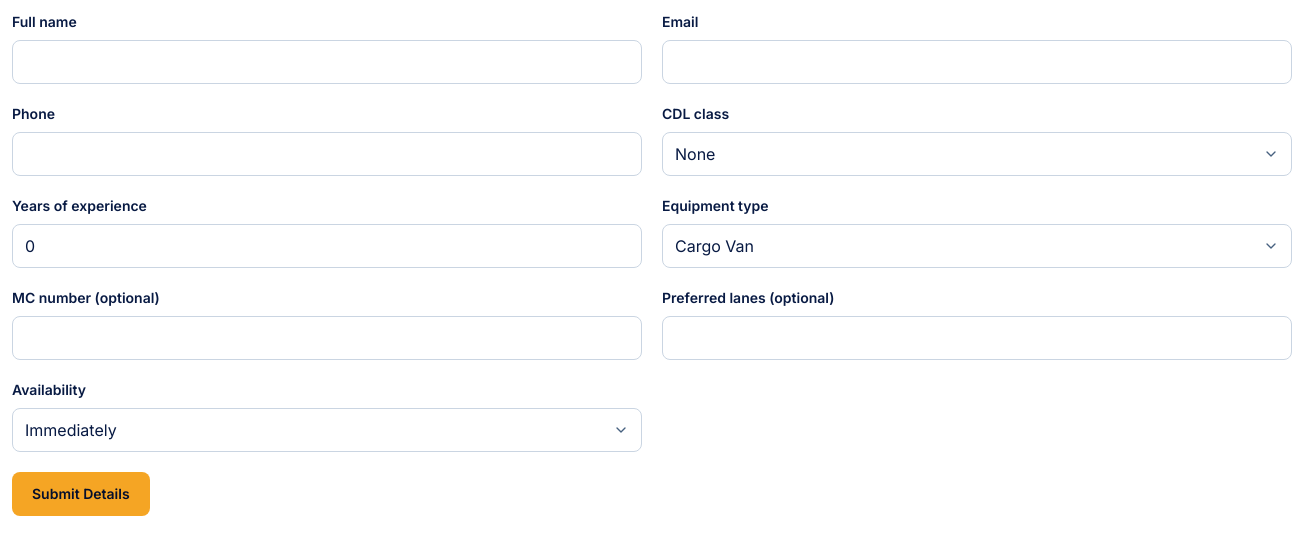
Test: OwnerOperatorForm › rejects a phone number that is too short
Type "Jordan Blake" into the field labelled "Full name". click: (327, 62)
box: [12, 40, 642, 84]
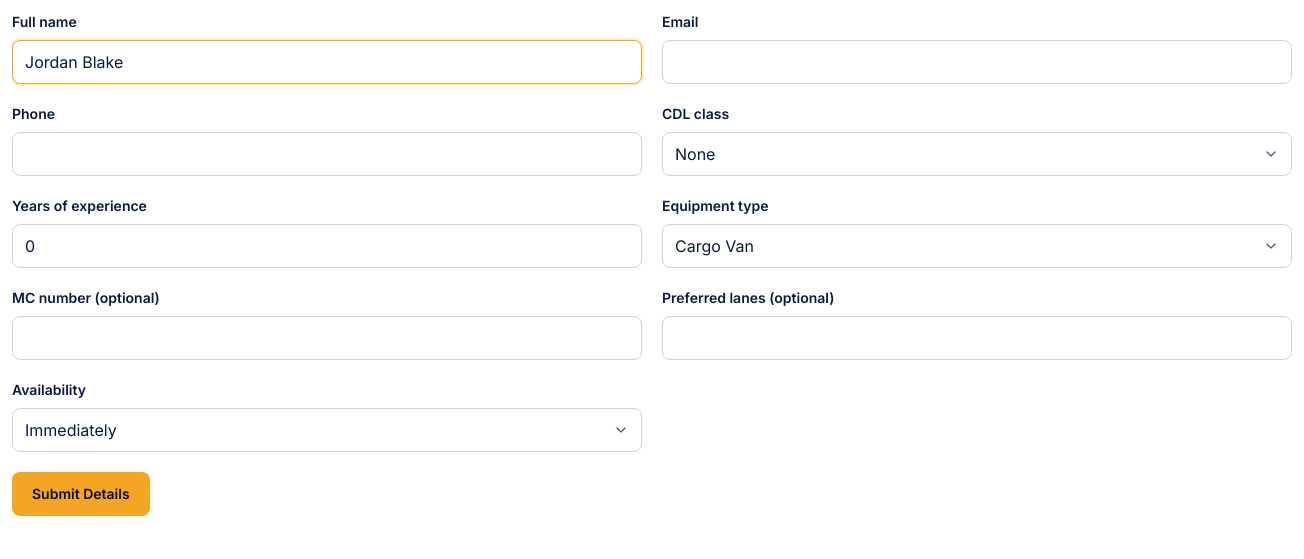
Type "jordan@example.com" into the field labelled "Email". click: (977, 62)
box: [662, 40, 1292, 84]
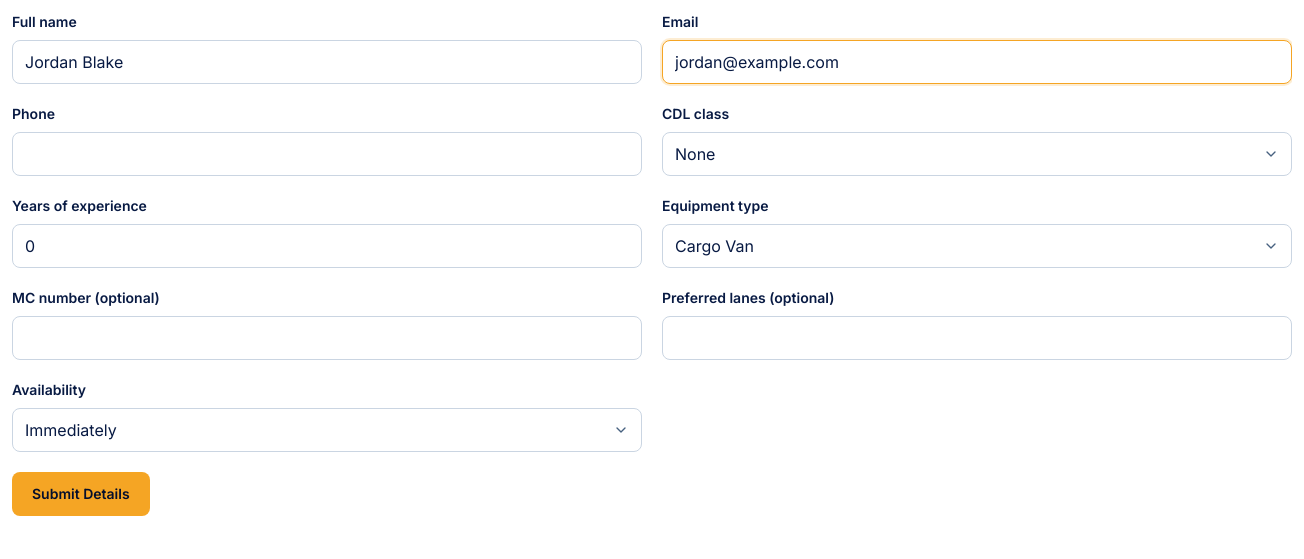
Type "91684" into the field labelled "Phone". click: (327, 154)
box: [12, 132, 642, 176]
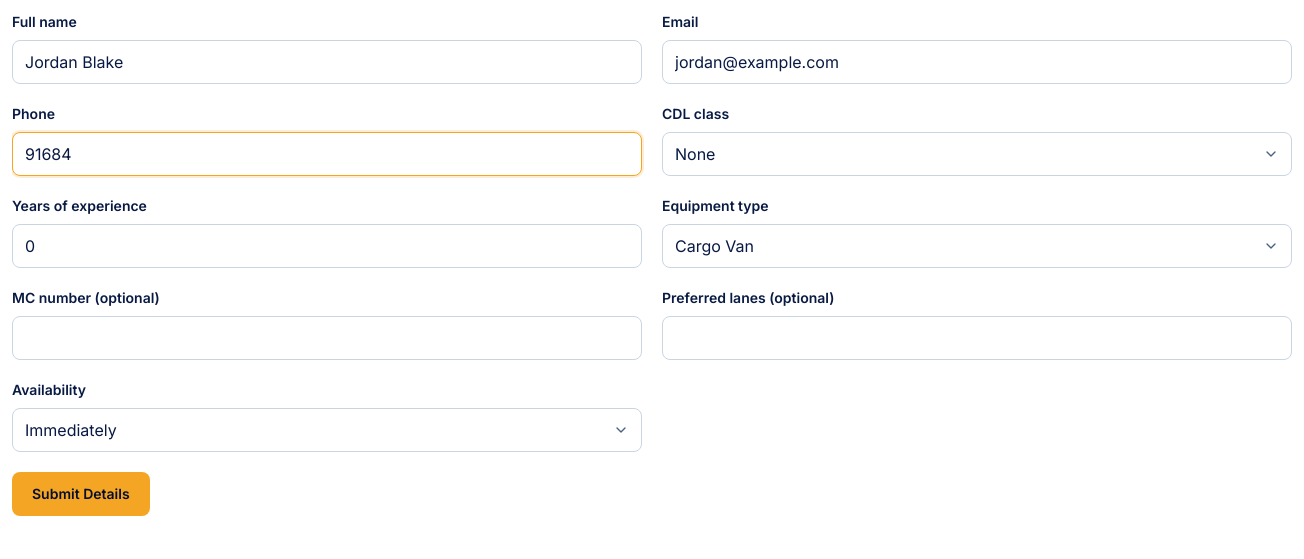
Click the button "Submit Details". click: (81, 494)
box: [12, 472, 150, 516]
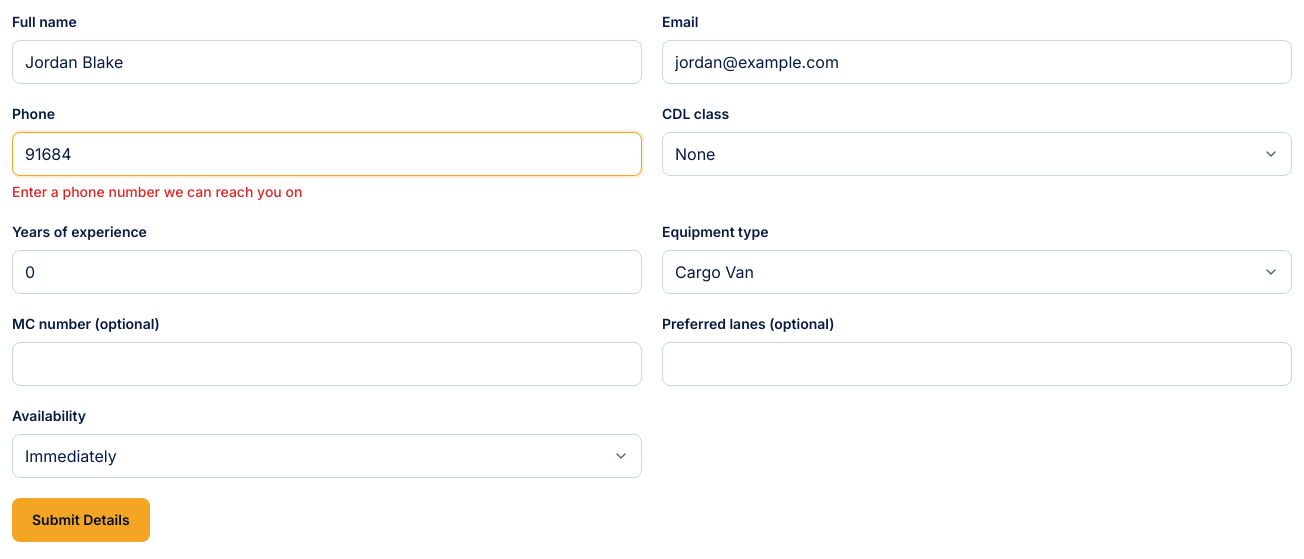
Check: the text "Enter a phone number we can reach you on" is shown, box [12, 183, 302, 200]
